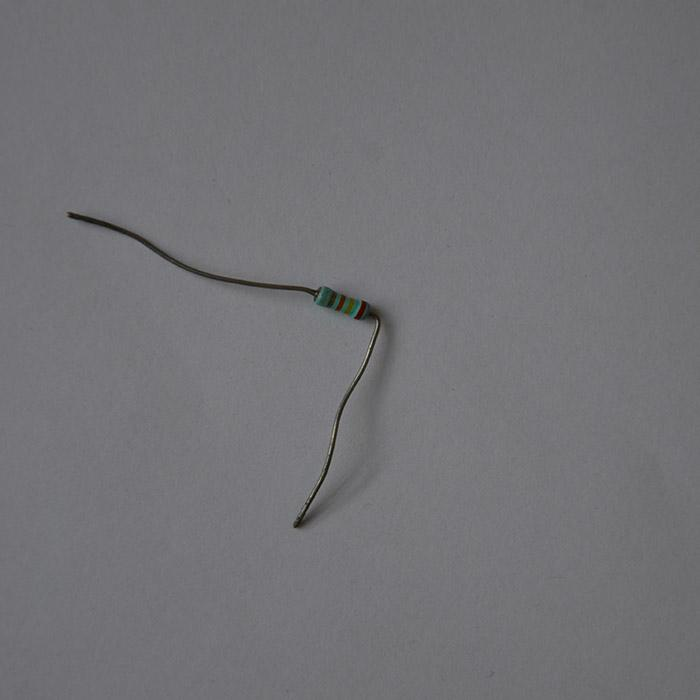resistor: (312, 284, 371, 321)
